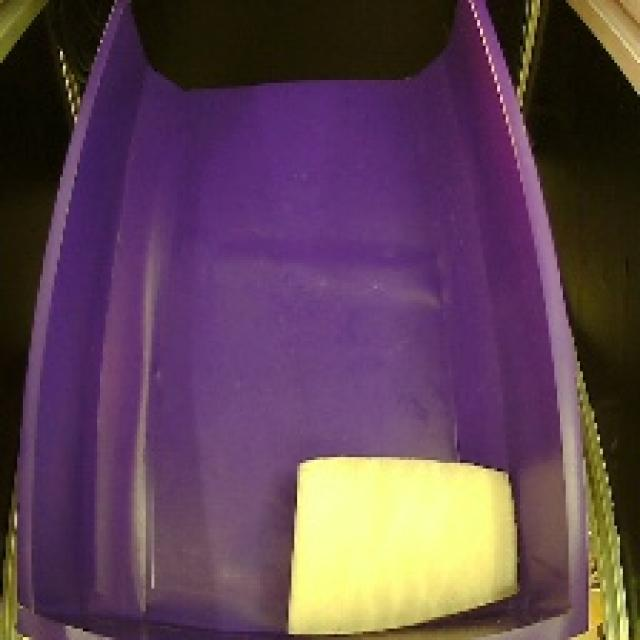white_radish: (265, 440, 533, 639)
